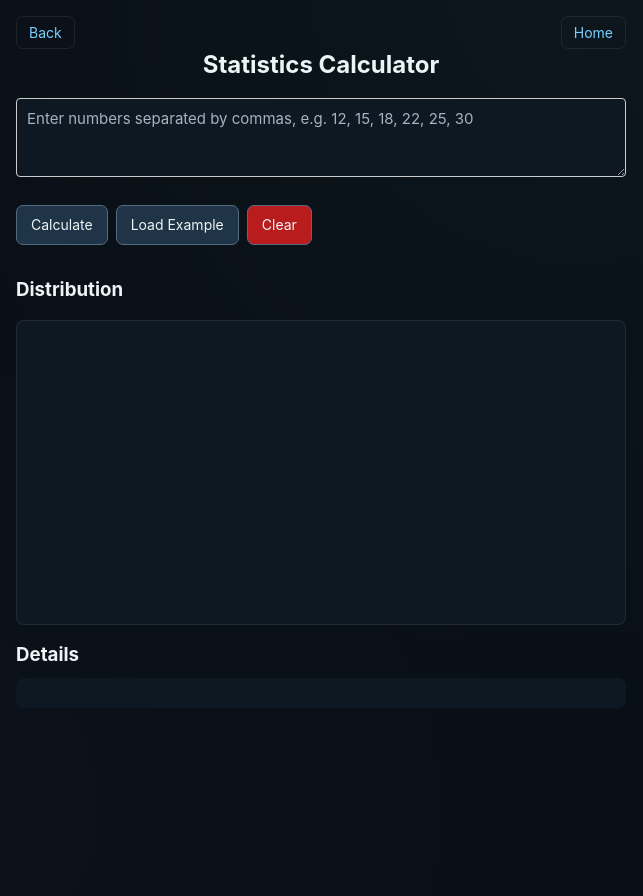
Test: draws a histogram and restores its readable empty state on Clear
What coordinates should you click on to do the following:
click the button "Load Example"
I would click on:
 (177, 225)
Its box is [116,205,239,245].
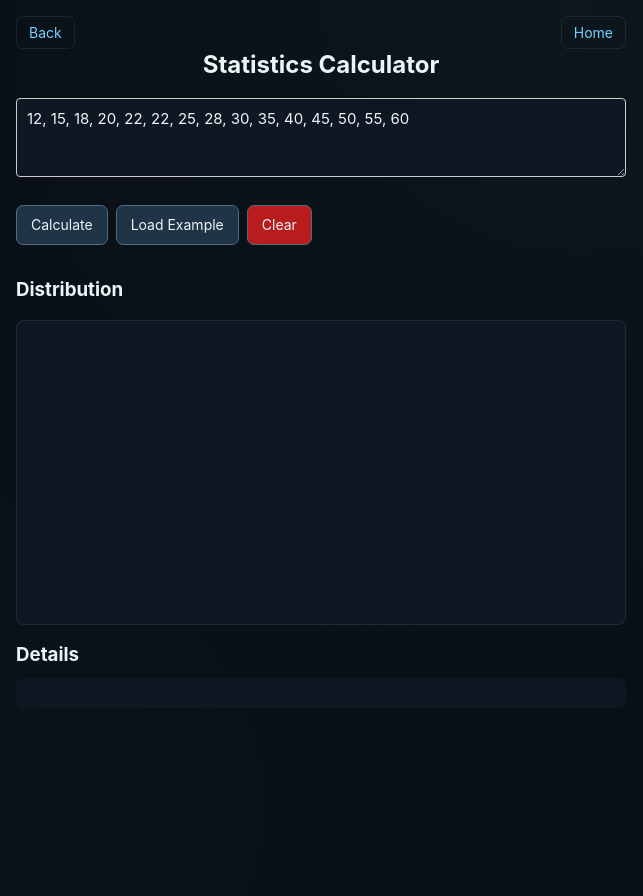
What coordinates should you click on to do the following:
click the button "Calculate"
I would click on:
 (62, 225)
Its box is [16,205,108,245].
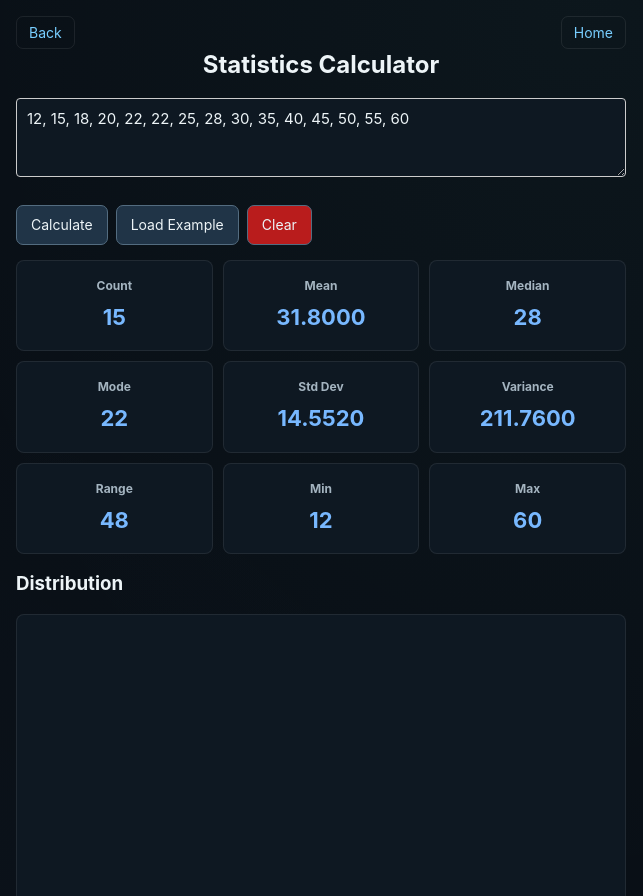
Result: the text "Mean" is shown at [304,278,337,293]
What coordinates should you click on to do the following:
click the button "Clear"
I would click on:
 (279, 225)
Its box is [247,205,312,245].
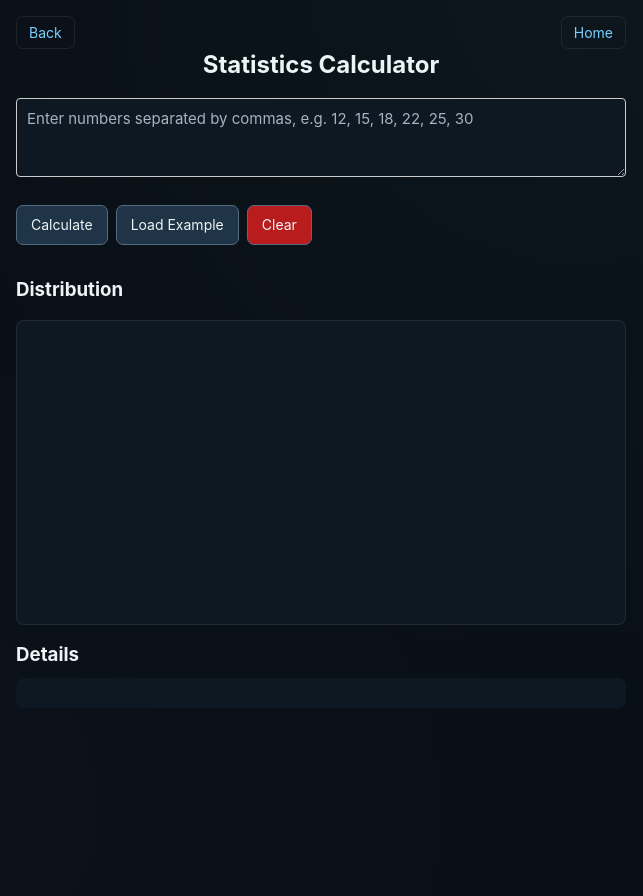
Result: the text "Mean" is gone
